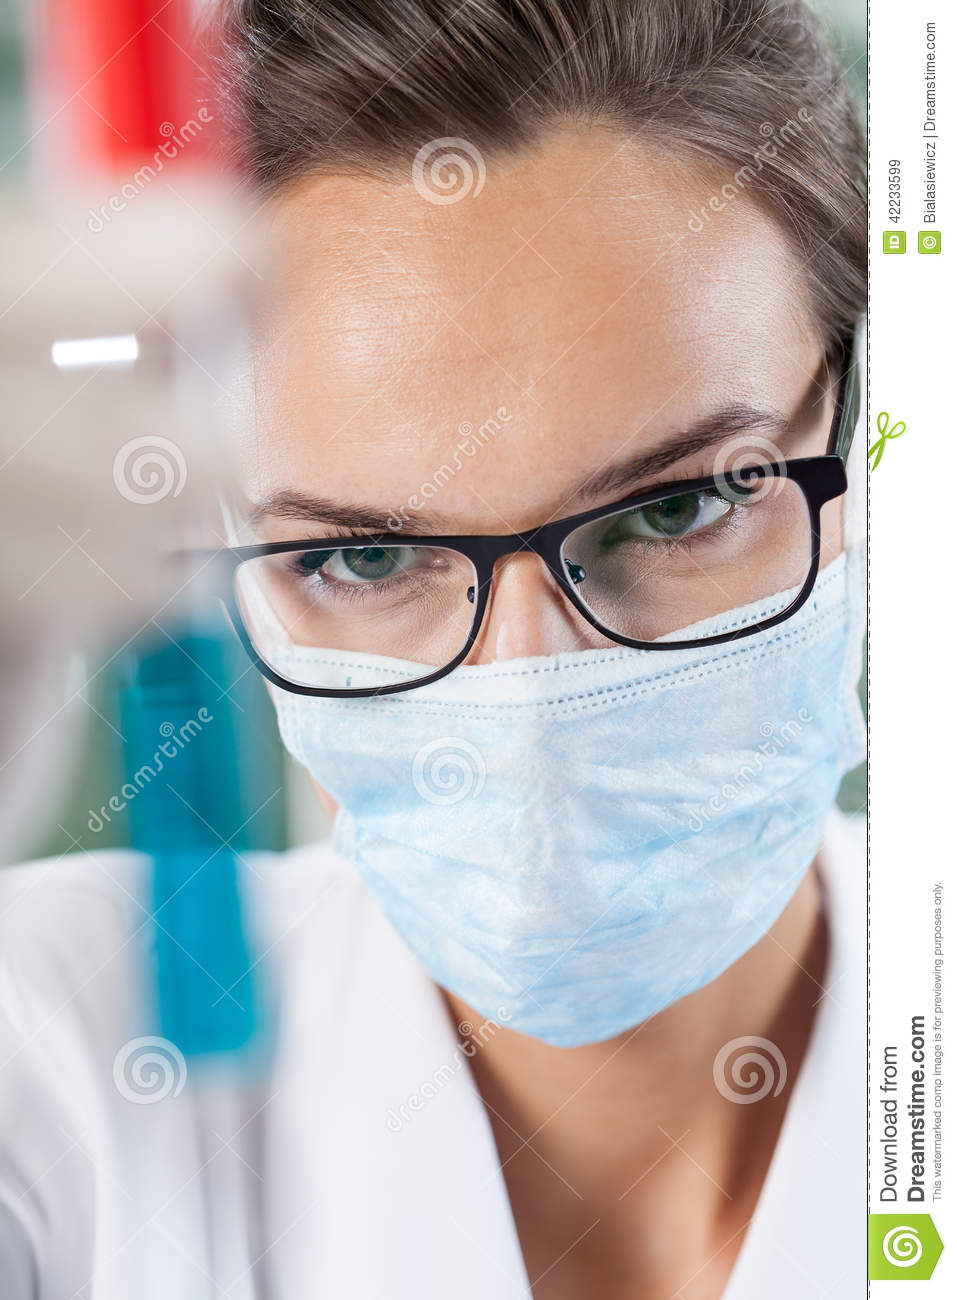mask: (244, 595, 868, 1071)
